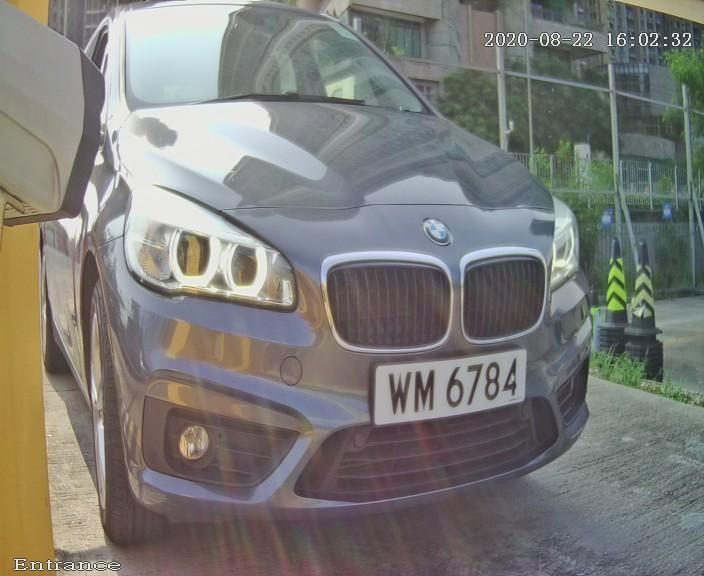Car: (13, 1, 648, 569)
License Plate: (335, 322, 568, 448)
